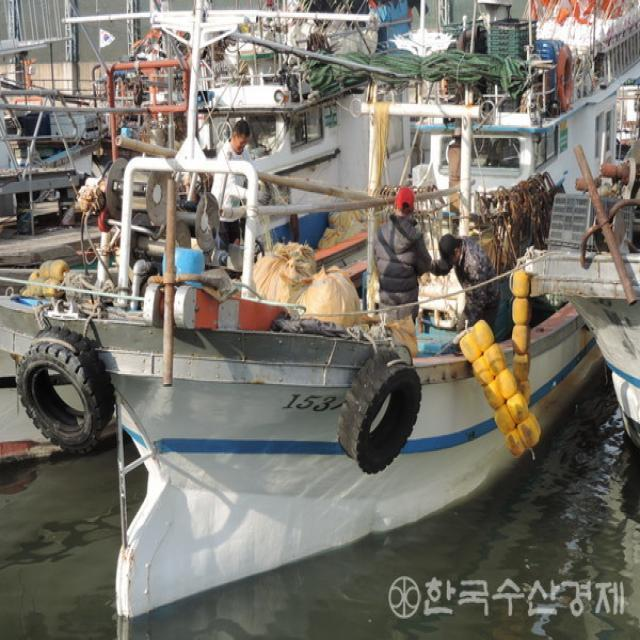Ship: (1, 143, 628, 627)
